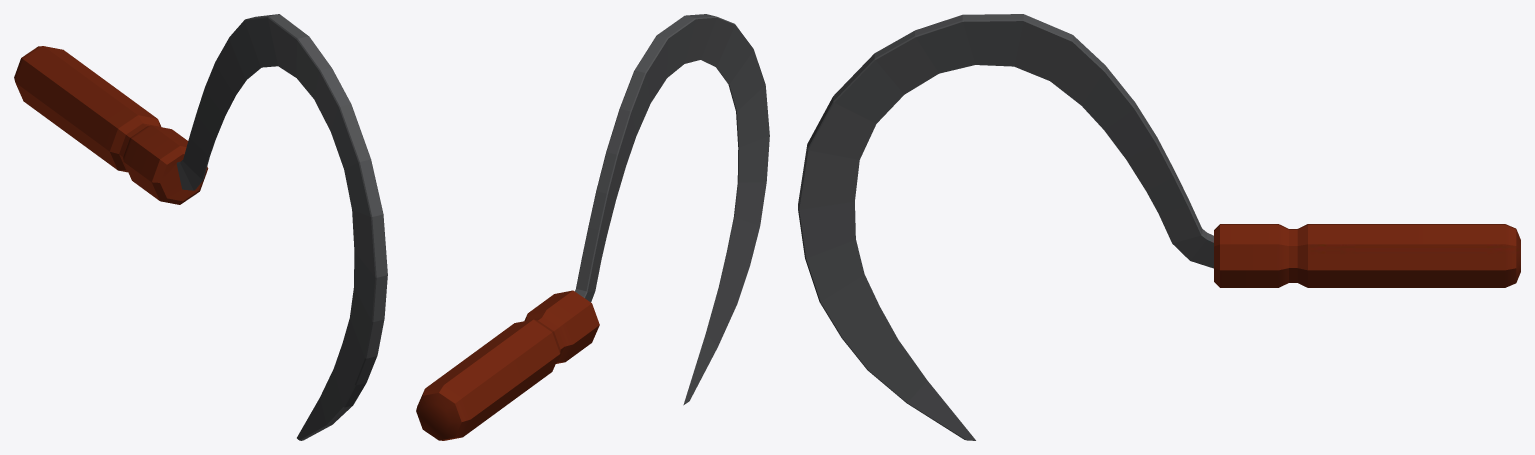
Rendered from HozOriginal.fbx.
3 views of the same model, side by side, from view 1: azimuth 30°, elevation 25°; view 2: azimuth 150°, elevation 25°; view 3: azimuth 270°, elevation 25° (orthographic). The views are drawn at different scales.
Visible parts, largest first — view 1: HozOriginal; view 2: HozOriginal; view 3: HozOriginal.
Part boxes in pixels (left/top/right/bottom): HozOriginal: left=14, top=14, right=387, bottom=440; HozOriginal: left=416, top=14, right=769, bottom=440; HozOriginal: left=798, top=14, right=1520, bottom=440.
Size of the model in its own units: 4.63 by 31.79 by 49.1.
